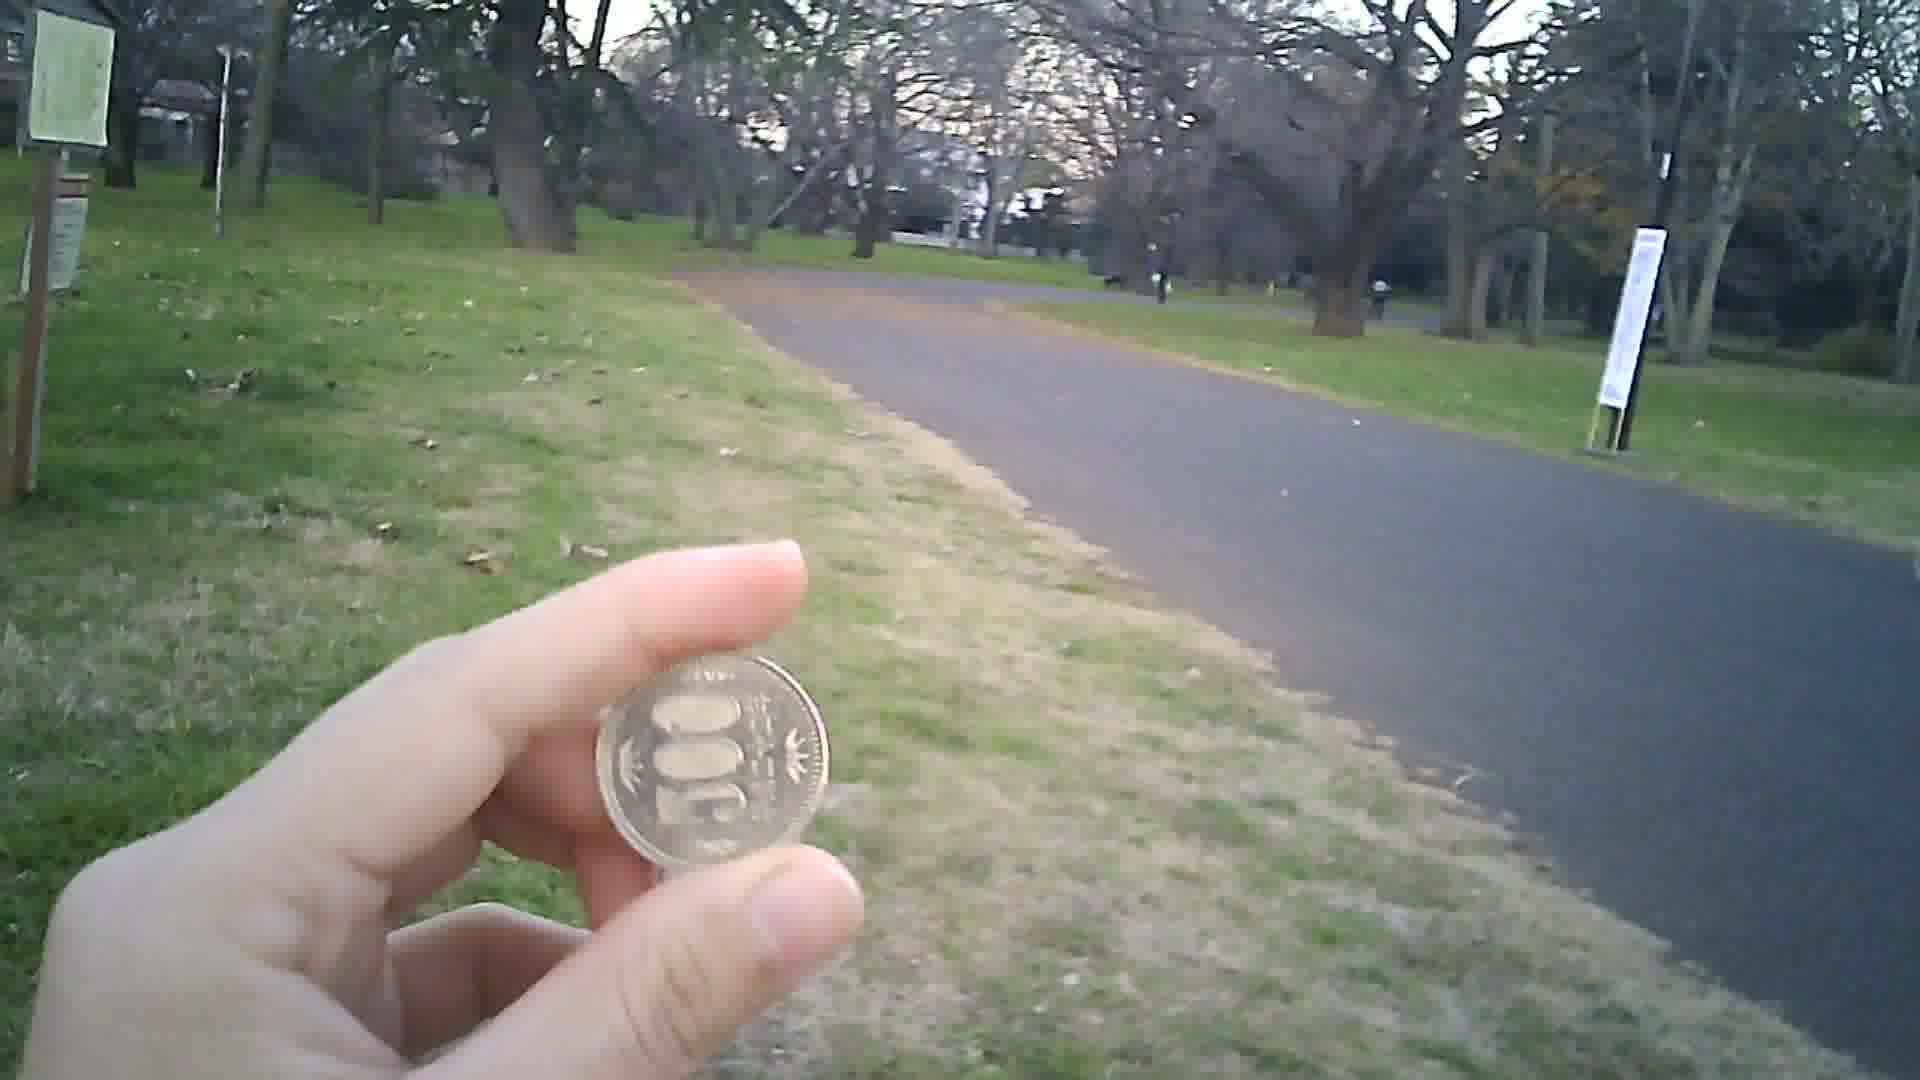500 Yen: (600, 645, 841, 881)
